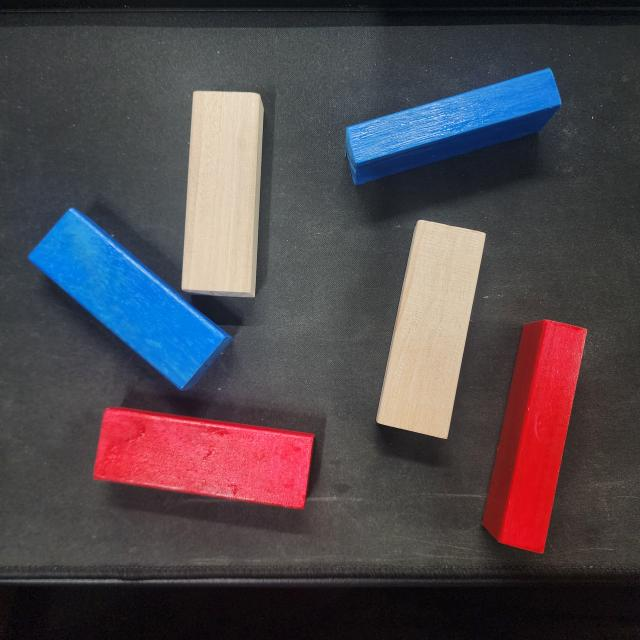blue: (26, 203, 235, 395), (338, 68, 567, 187)
red: (479, 315, 588, 555), (93, 404, 316, 510)
wood: (375, 220, 487, 441), (182, 90, 265, 299)
